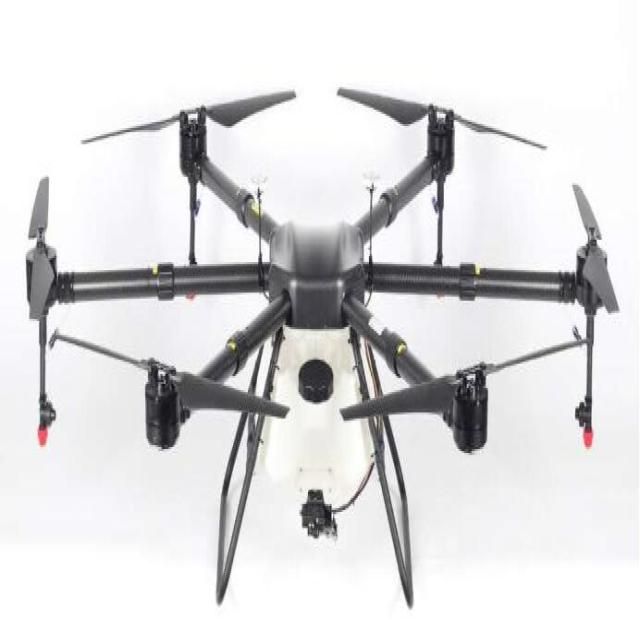drone: (0, 61, 640, 626)
